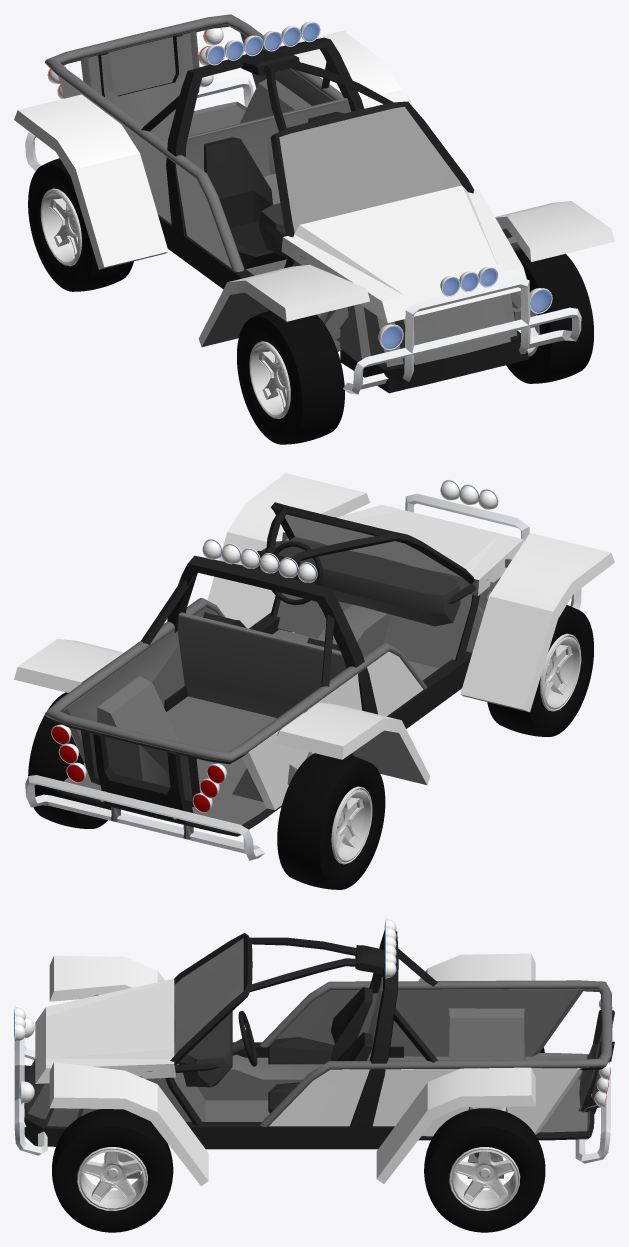
File: Buggy.FBX
The picture shows the model from 3 angles, top to bottom: view 1: azimuth 30°, elevation 25°; view 2: azimuth 150°, elevation 25°; view 3: azimuth 270°, elevation 25°; orthographic projection. The views are drawn at different scales.
Visible parts, largest first — view 1: Body, Windshield, Wheel_FR, Wheel_RR, Wheel_FL, Seats, Light_Top, Light_Fog, Light_Brake_L; view 2: Body, Wheel_RR, Wheel_FR, Wheel_RL, Windshield, Light_Top, Light_Fog, Light_Brake_L, Light_Brake_R, Steering Wheel; view 3: Body, Wheel_RL, Wheel_FL, Seats, Windshield, Light_Top, Steering Wheel, Light_Brake_L.
Boxes of the visible parts, <box> form: Body: <box>14,14,614,394</box>; Windshield: <box>279,106,461,232</box>; Wheel_FR: <box>237,310,344,444</box>; Wheel_RR: <box>28,158,133,291</box>; Wheel_FL: <box>506,249,593,383</box>; Seats: <box>204,112,343,268</box>; Light_Top: <box>205,21,320,65</box>; Light_Fog: <box>440,267,498,296</box>; Light_Brake_L: <box>198,28,223,87</box>; Body: <box>14,473,614,860</box>; Wheel_RR: <box>277,753,385,889</box>; Wheel_FR: <box>487,605,593,736</box>; Wheel_RL: <box>28,692,111,828</box>; Windshield: <box>285,514,461,577</box>; Light_Top: <box>202,539,317,582</box>; Light_Fog: <box>440,479,498,509</box>; Light_Brake_L: <box>51,724,86,782</box>; Light_Brake_R: <box>192,763,226,812</box>; Steering Wheel: <box>272,541,323,605</box>; Body: <box>14,930,614,1186</box>; Wheel_RL: <box>424,1108,545,1232</box>; Wheel_FL: <box>52,1109,173,1232</box>; Seats: <box>268,987,372,1113</box>; Windshield: <box>174,938,243,1055</box>; Light_Top: <box>384,918,396,978</box>; Steering Wheel: <box>238,1011,257,1066</box>; Light_Brake_L: <box>594,1061,610,1108</box>.
Size of the model in its own units: 42.53 by 32.2 by 75.61.
